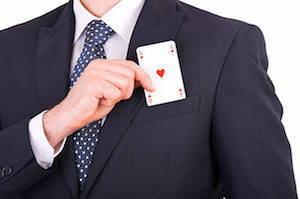AceOfHearts: (133, 39, 188, 109)
